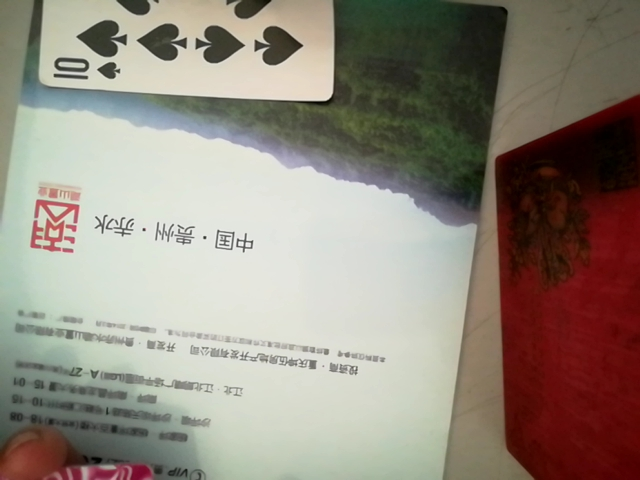ht 10: (24, 4, 342, 103)
